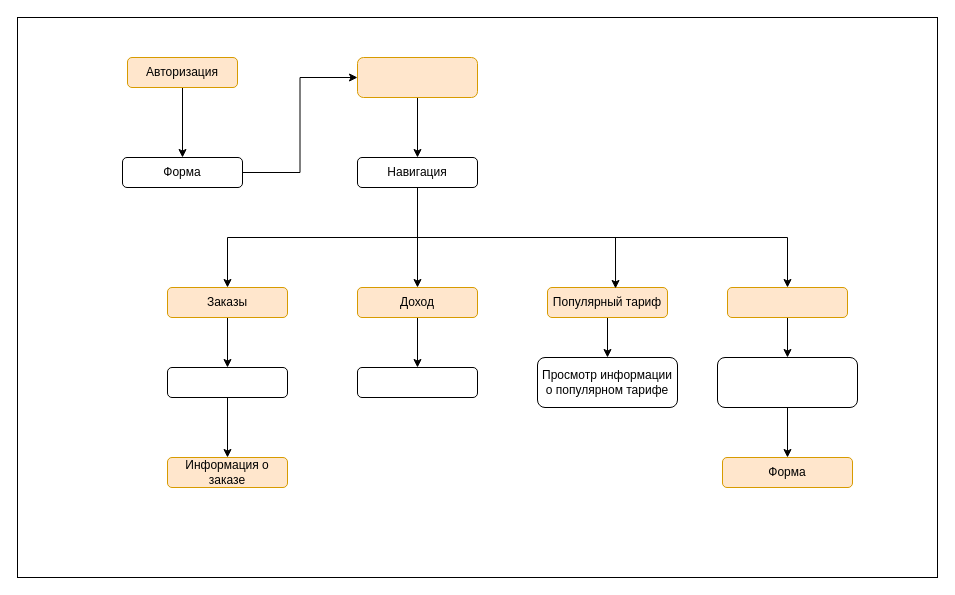
Image size: 955x595. Some labels were removed from this diagram. Here are the shapes that lost their labels. From the top down, the centre of each, then its label:
At [417,77]: "Главная страница".
At [787,302]: "Список сотрудников".
At [227,382]: "Список заказов".
At [417,382]: "Прибыль, убытки, доход".
At [787,382]: "Добавление сотрудника".
